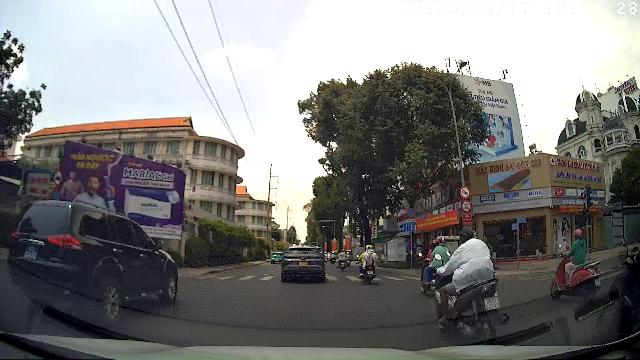128-cam-su-dung-coi: (459, 186, 471, 199)
